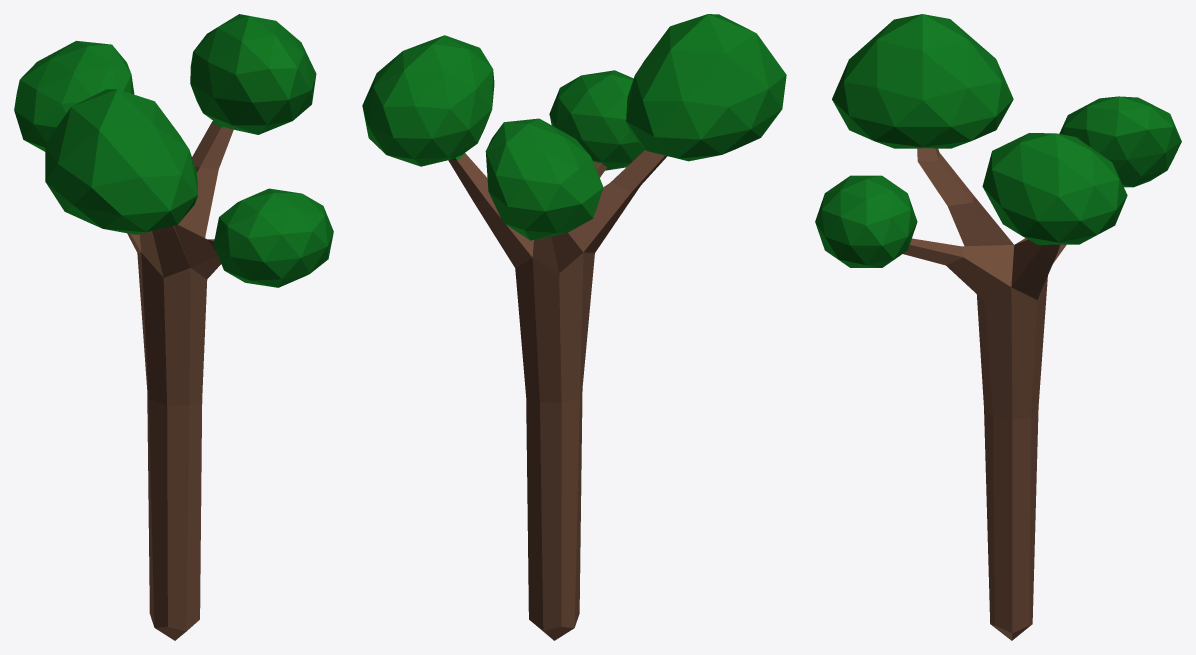
The model's file is Tree_Two.fbx.
3 renders of one model, left to right at view 1: azimuth 30°, elevation 25°; view 2: azimuth 150°, elevation 25°; view 3: azimuth 270°, elevation 25°, orthographic. The views are drawn at different scales.
Visible parts, largest first — view 1: Cube; view 2: Cube; view 3: Cube.
Part boxes in pixels (left/top/right/bottom): Cube: left=14, top=14, right=333, bottom=640; Cube: left=362, top=14, right=786, bottom=640; Cube: left=815, top=14, right=1181, bottom=640.
Size of the model in its own units: 1684 by 3081 by 1770.
